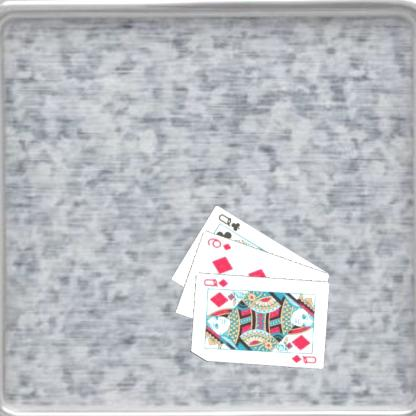6D: (206, 235, 234, 252)
QC: (217, 211, 243, 232)
QD: (290, 352, 319, 364), (203, 276, 231, 288)
